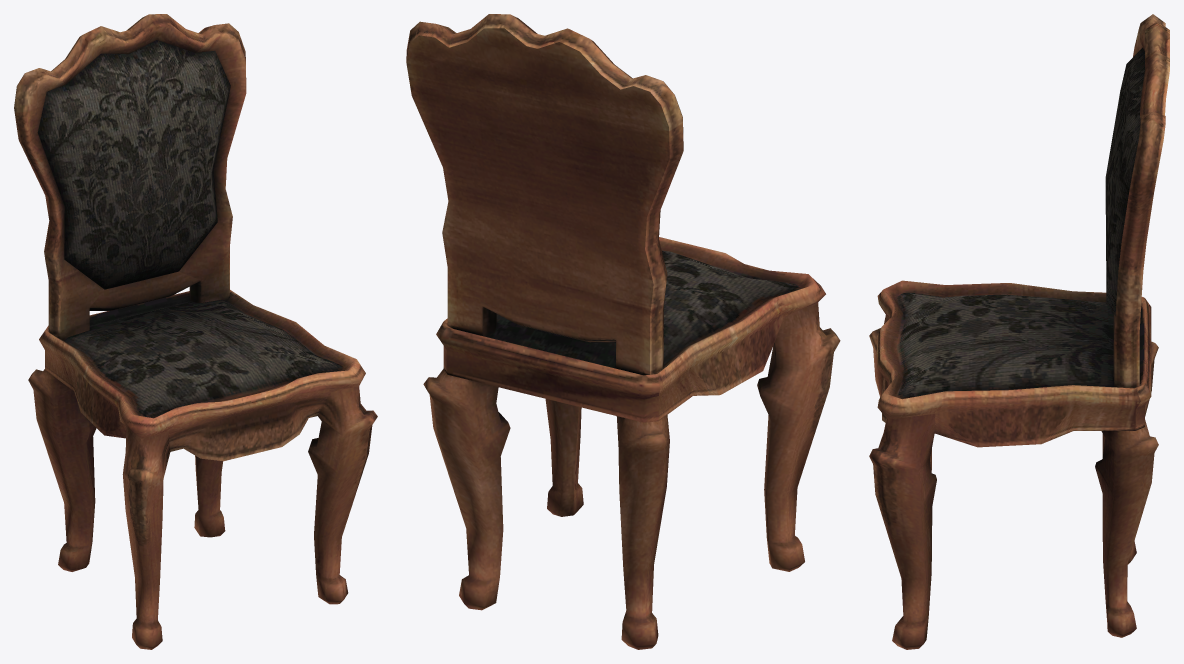
File: chair_nice06.dae
3 views of the same model, side by side, from view 1: azimuth 30°, elevation 25°; view 2: azimuth 150°, elevation 25°; view 3: azimuth 270°, elevation 25° (orthographic). The views are drawn at different scales.
Visible parts, largest first — view 1: chair_nice01_Mesh; view 2: chair_nice01_Mesh; view 3: chair_nice01_Mesh.
Boxes of the visible parts, box(x1,y1,x2,y2) form: chair_nice01_Mesh: box(14, 14, 377, 649); chair_nice01_Mesh: box(406, 14, 840, 649); chair_nice01_Mesh: box(869, 14, 1169, 649).
Bounding box in the file's own units: 0.6539 × 1.31 × 0.6397.
